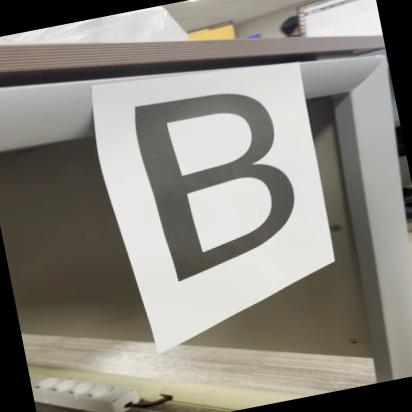seat: (114, 52, 350, 300)
